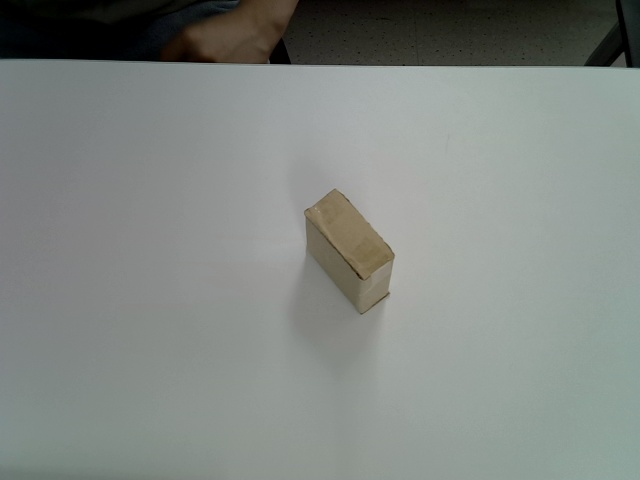normal: (305, 187, 395, 315)
